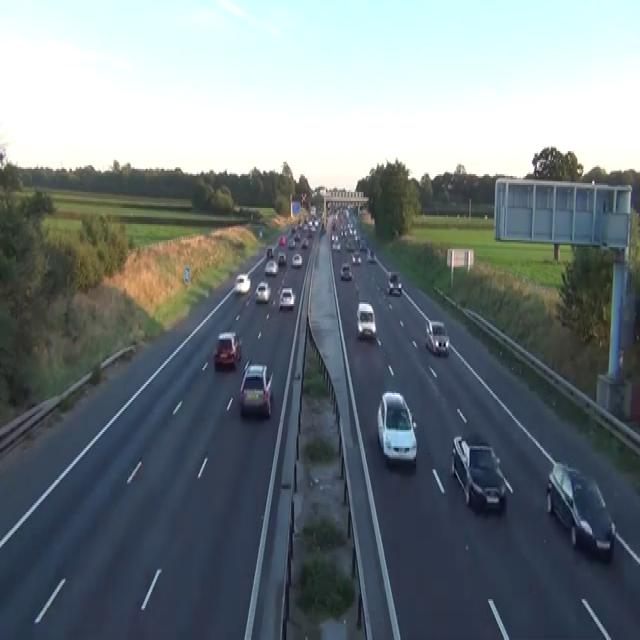Car: (546, 460, 615, 562), (451, 434, 506, 510), (376, 389, 417, 466), (239, 361, 273, 418), (213, 330, 241, 370), (425, 320, 449, 356), (356, 300, 376, 338), (279, 286, 295, 308), (387, 272, 402, 295), (254, 281, 270, 302), (234, 274, 250, 293), (264, 260, 278, 276), (340, 263, 352, 279), (291, 252, 302, 266), (366, 249, 376, 261), (352, 252, 361, 265), (278, 251, 286, 265), (331, 240, 341, 251), (266, 245, 273, 258), (301, 236, 308, 249), (287, 238, 295, 249), (346, 240, 354, 251), (359, 240, 367, 251), (278, 235, 286, 245), (293, 231, 300, 240), (291, 226, 296, 233), (259, 230, 262, 237)
